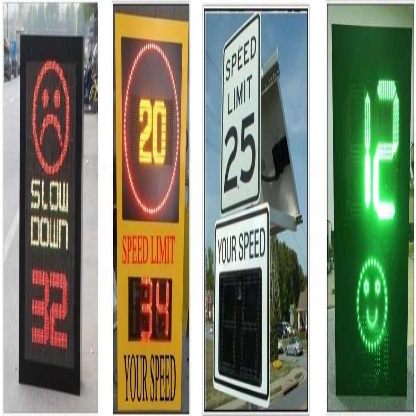limit1: (217, 10, 263, 213)
limit2: (121, 34, 180, 222)
